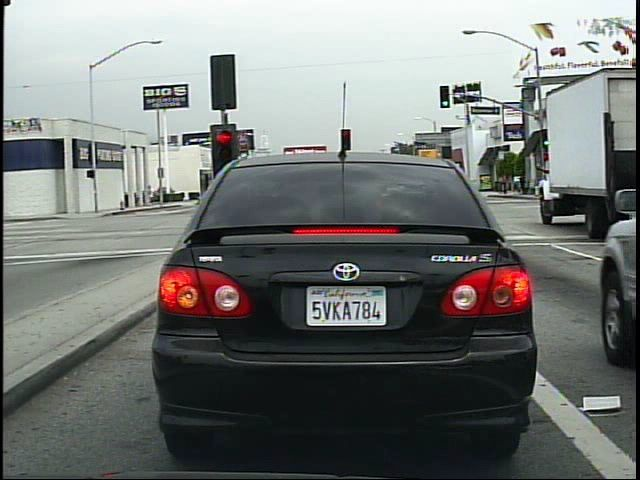person: (519, 170, 528, 197), (150, 181, 156, 208)
